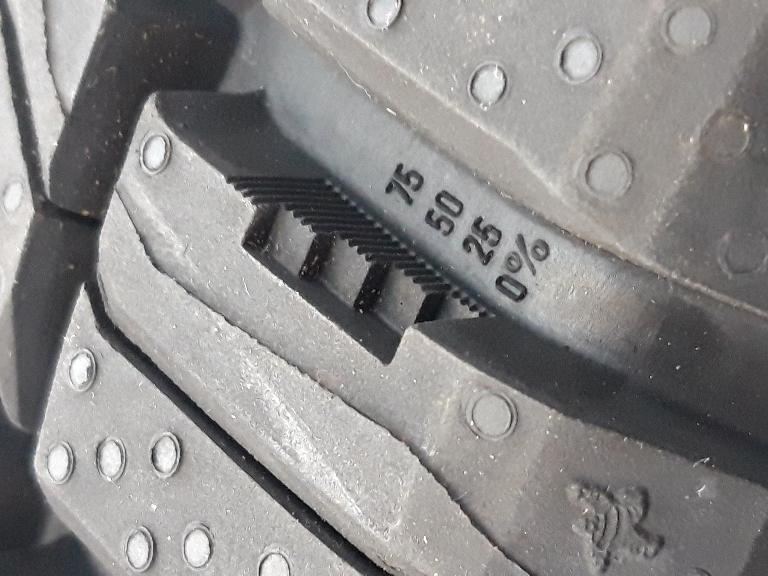temoin:100: (214, 163, 510, 381)
